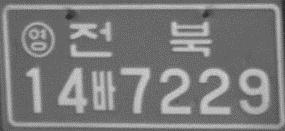1: (20, 65, 51, 114)
2: (158, 67, 192, 115), (198, 67, 231, 116)
4: (55, 66, 88, 114)
7: (120, 65, 153, 114)
9: (238, 67, 271, 115)
바: (90, 69, 116, 111)
영: (19, 20, 55, 59)
전북_D: (67, 20, 213, 59)
